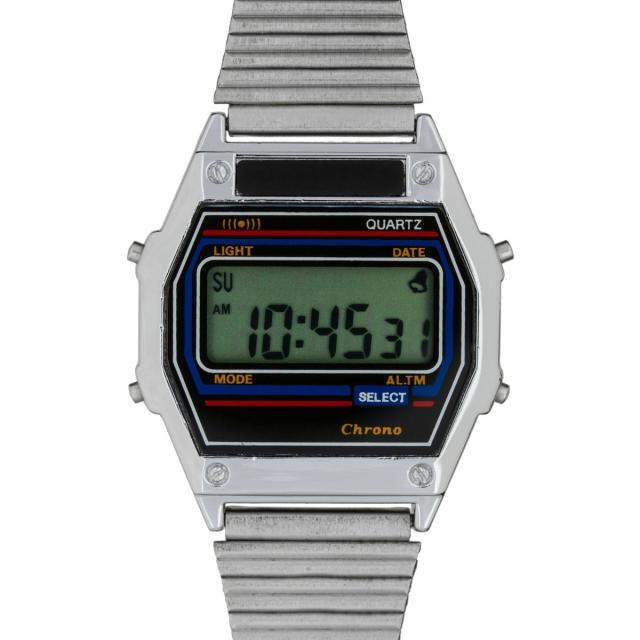watch: (142, 158, 499, 496)
